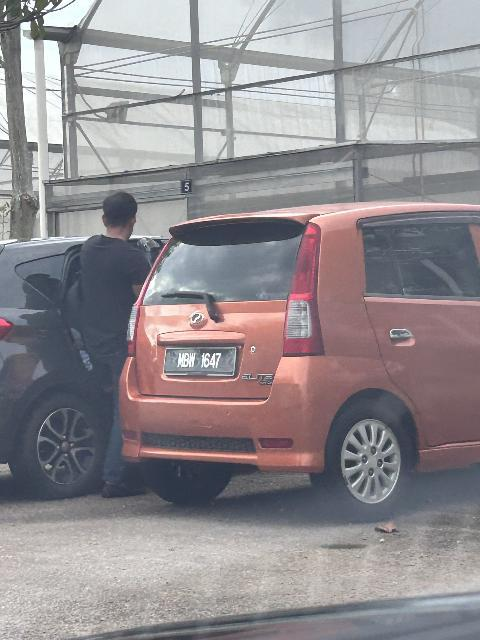License_Plate: (162, 350, 241, 380)
MBW1647: (162, 350, 241, 380)
car: (114, 211, 480, 520)
